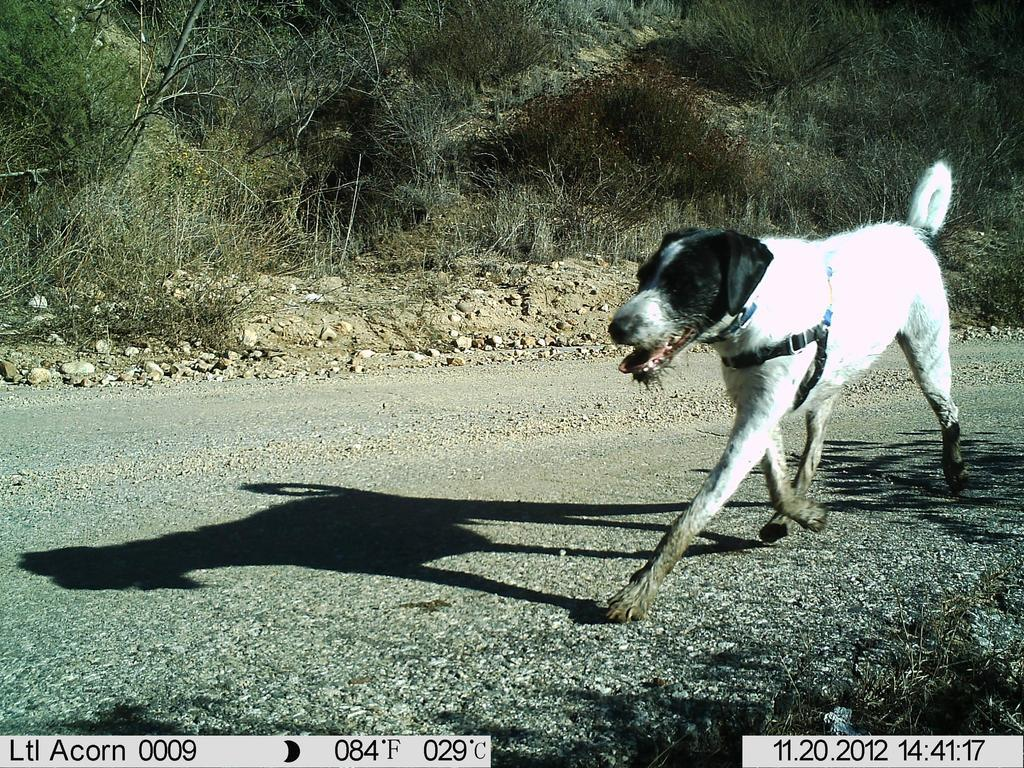dog: (592, 148, 977, 630)
